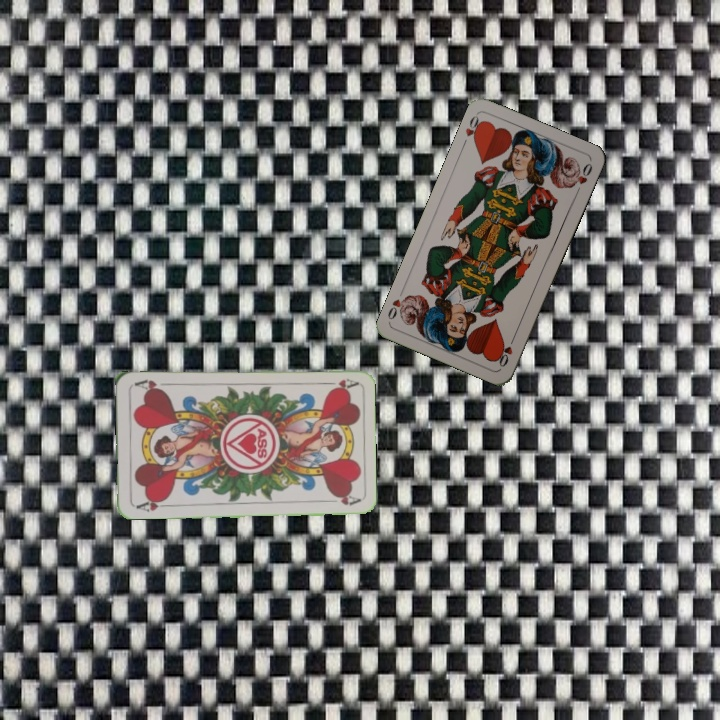HA: (132, 495, 172, 515), (318, 375, 359, 391)
HO: (458, 111, 486, 149), (495, 331, 518, 369)
